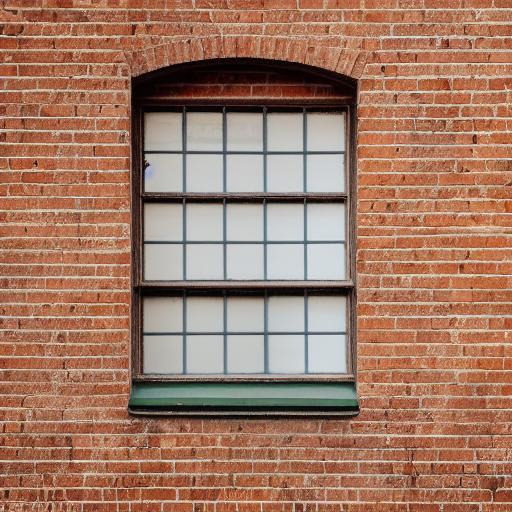Window: (119, 37, 363, 421)
